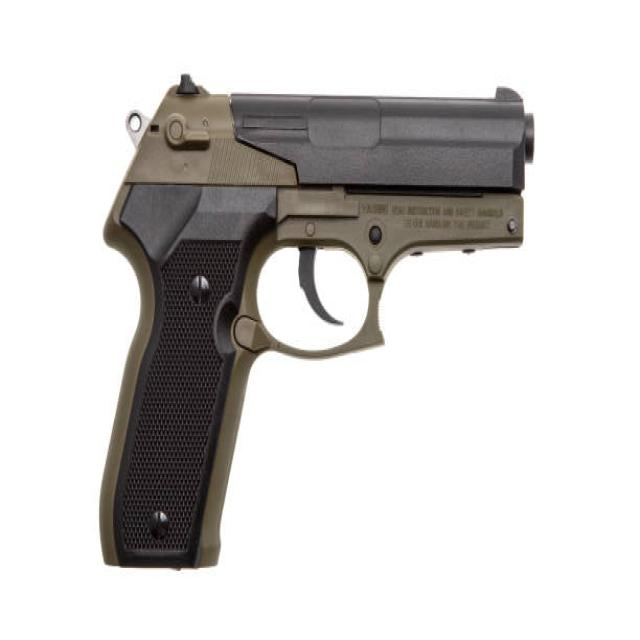pistol: (92, 76, 543, 580)
